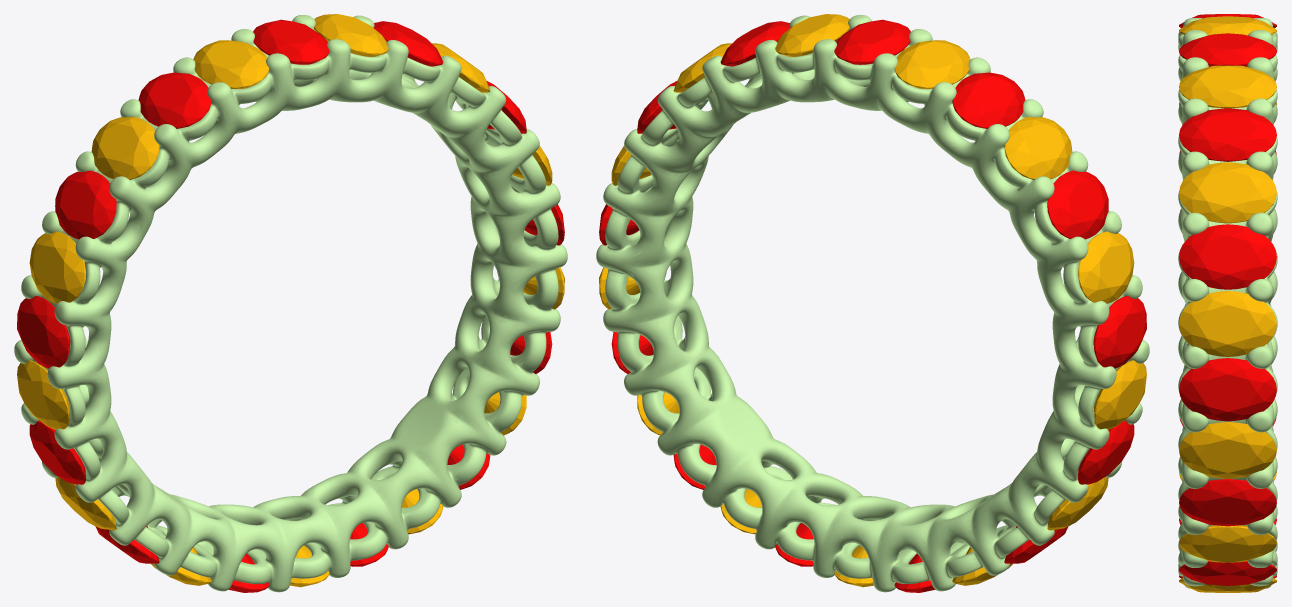
Rendered from TCC-RN-CR-32196-Oval-Eternity-15.glb.
3 renders of one model, left to right at view 1: azimuth 30°, elevation 25°; view 2: azimuth 150°, elevation 25°; view 3: azimuth 270°, elevation 25°, orthographic. The views are drawn at different scales.
Parts seen in each view (by area): view 1: Metal03, Diamond Band02.001, Diamond Band01.001, Diamond Band01, Diamond Band02.002, Diamond Band02, Diamond Band01.002, Diamond Band01.012, Diamond Band02.003, Diamond Band02.012, Diamond Band01.003, Diamond Band01.011 (+3 smaller); view 2: Metal03, Diamond Band02.001, Diamond Band01.001, Diamond Band01, Diamond Band02.002, Diamond Band02, Diamond Band01.002, Diamond Band01.012, Diamond Band02.003, Diamond Band02.012, Diamond Band01.003, Diamond Band01.011 (+3 smaller); view 3: Metal03, Diamond Band02.010, Diamond Band01.010, Diamond Band01.009, Diamond Band02.011, Diamond Band02.009, Diamond Band01.011, Diamond Band01.008, Diamond Band02.012, Diamond Band02.008, Diamond Band01.012, Diamond Band01.007 (+3 smaller).
Part boxes in pixels (bbox=[...]): Metal03: bbox=[14, 15, 567, 592]; Diamond Band02.001: bbox=[91, 117, 159, 179]; Diamond Band01.001: bbox=[55, 170, 116, 239]; Diamond Band01: bbox=[138, 72, 211, 128]; Diamond Band02.002: bbox=[29, 231, 85, 303]; Diamond Band02: bbox=[193, 40, 269, 88]; Diamond Band01.002: bbox=[17, 296, 70, 368]; Diamond Band01.012: bbox=[253, 19, 329, 64]; Diamond Band02.003: bbox=[17, 360, 69, 429]; Diamond Band02.012: bbox=[314, 14, 388, 56]; Diamond Band01.003: bbox=[29, 421, 85, 484]; Diamond Band01.011: bbox=[373, 21, 443, 66]; Metal03: bbox=[596, 14, 1149, 592]; Diamond Band02.001: bbox=[1004, 117, 1072, 179]; Diamond Band01.001: bbox=[1047, 170, 1108, 239]; Diamond Band01: bbox=[952, 72, 1025, 128]; Diamond Band02.002: bbox=[1078, 231, 1134, 303]; Diamond Band02: bbox=[894, 40, 970, 88]; Diamond Band01.002: bbox=[1093, 296, 1146, 368]; Diamond Band01.012: bbox=[834, 19, 910, 64]; Diamond Band02.003: bbox=[1094, 360, 1146, 429]; Diamond Band02.012: bbox=[775, 14, 849, 56]; Diamond Band01.003: bbox=[1078, 421, 1134, 484]; Diamond Band01.011: bbox=[720, 21, 790, 66]; Metal03: bbox=[1178, 18, 1277, 588]; Diamond Band02.010: bbox=[1179, 291, 1276, 356]; Diamond Band01.010: bbox=[1179, 224, 1276, 289]; Diamond Band01.009: bbox=[1179, 358, 1276, 421]; Diamond Band02.011: bbox=[1179, 162, 1276, 223]; Diamond Band02.009: bbox=[1179, 422, 1276, 478]; Diamond Band01.011: bbox=[1179, 108, 1276, 161]; Diamond Band01.008: bbox=[1179, 479, 1276, 526]; Diamond Band02.012: bbox=[1179, 65, 1276, 108]; Diamond Band02.008: bbox=[1179, 525, 1276, 562]; Diamond Band01.012: bbox=[1179, 33, 1276, 66]; Diamond Band01.007: bbox=[1179, 560, 1276, 585].
Size of the model in its own units: 22.76 by 22.74 by 3.91.
